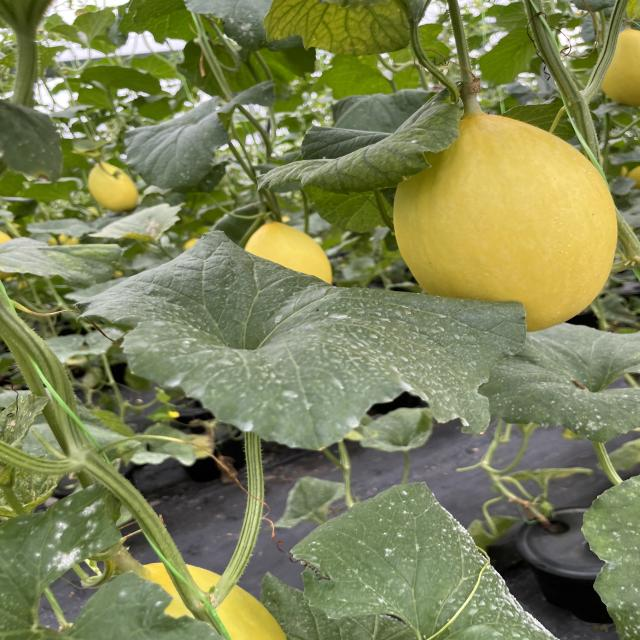CMV: (261, 0, 429, 60)
downy mildew: (255, 76, 468, 193)
healthy: (122, 76, 278, 190)
powdery mildew: (80, 231, 532, 452), (289, 480, 565, 640), (0, 481, 220, 640), (476, 322, 640, 442), (580, 473, 640, 640)
